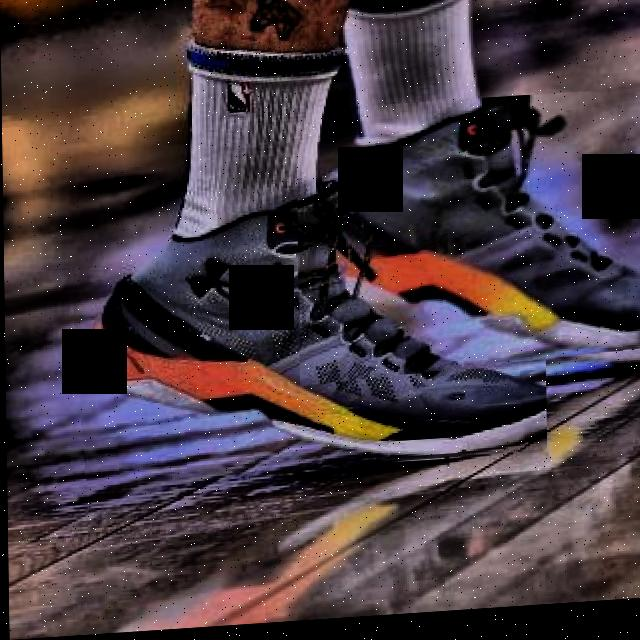shoe: (64, 176, 546, 489), (296, 96, 640, 391)
